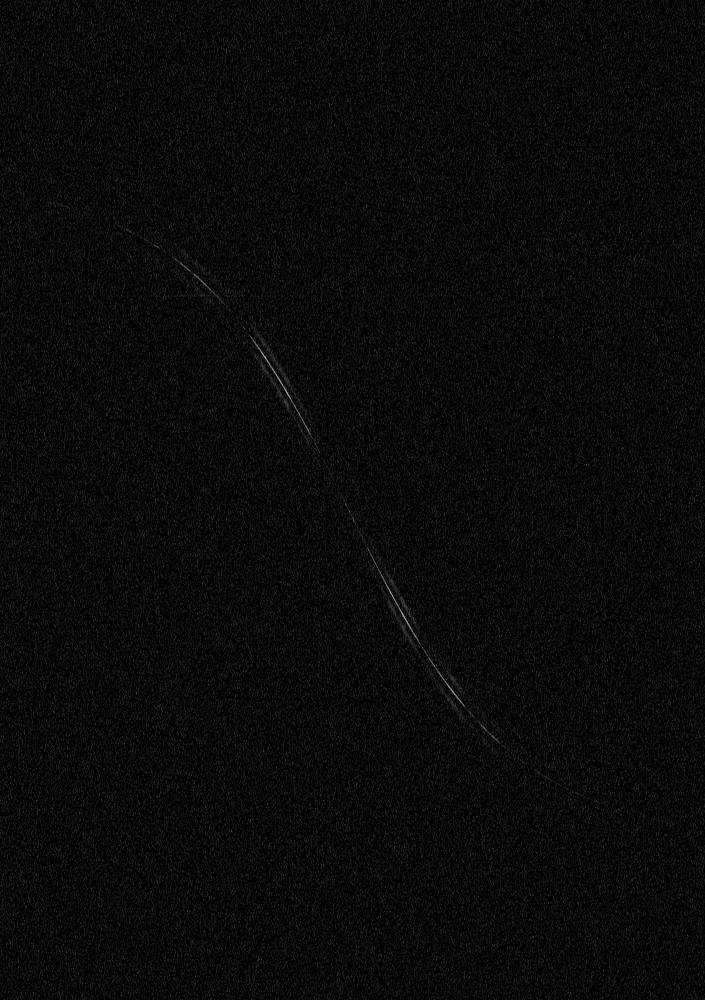signal: (0, 0, 704, 999)
